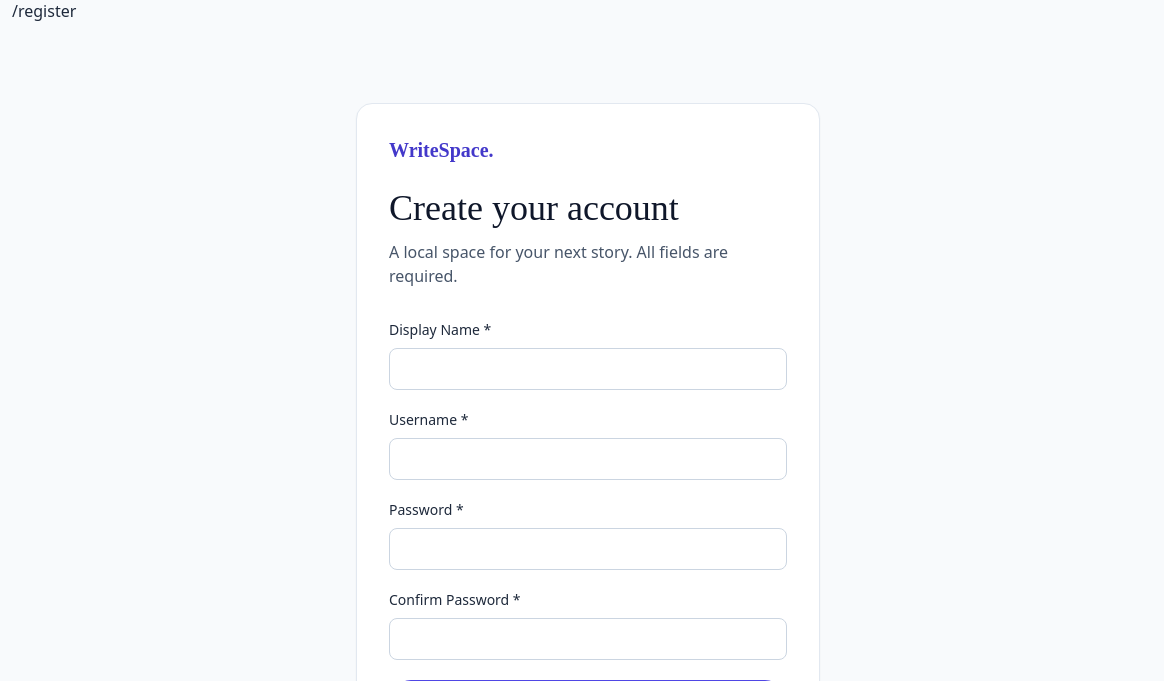
RegisterPage › rejects reserved username admin using the helper error
Type "Demo Writer" into the field labelled "Display Name *" at point(588, 369), box top-left (389, 348), bottom-right (787, 390)
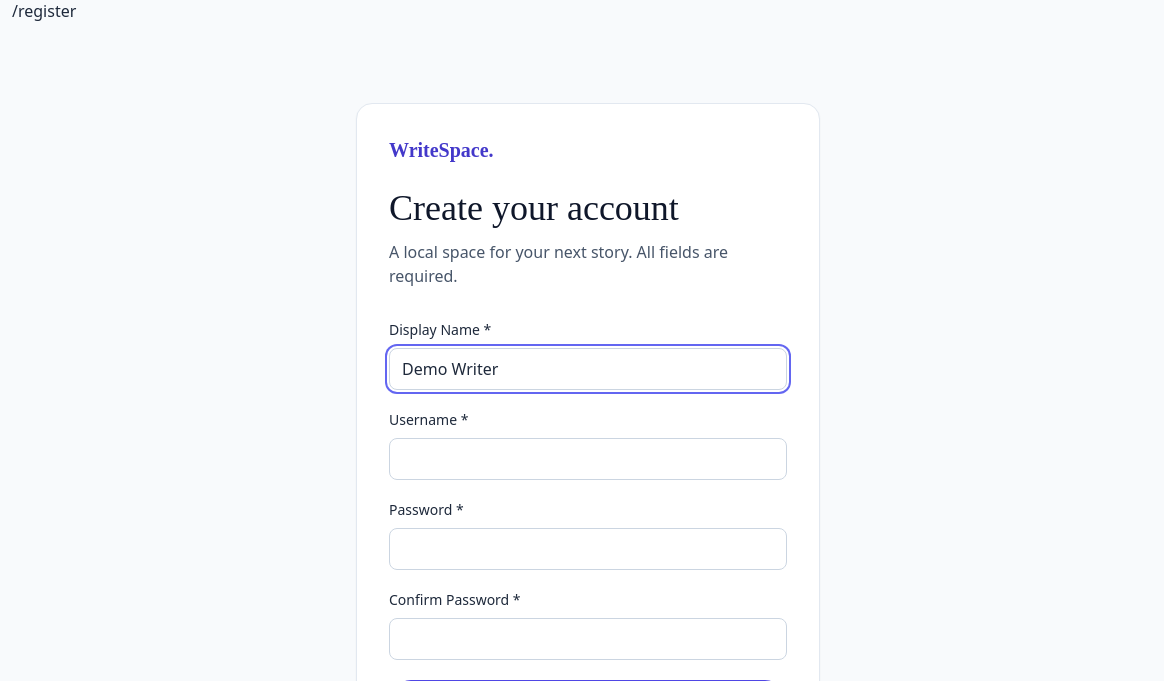
Type "admin" into the field labelled "Username *" at point(588, 459), box top-left (389, 438), bottom-right (787, 480)
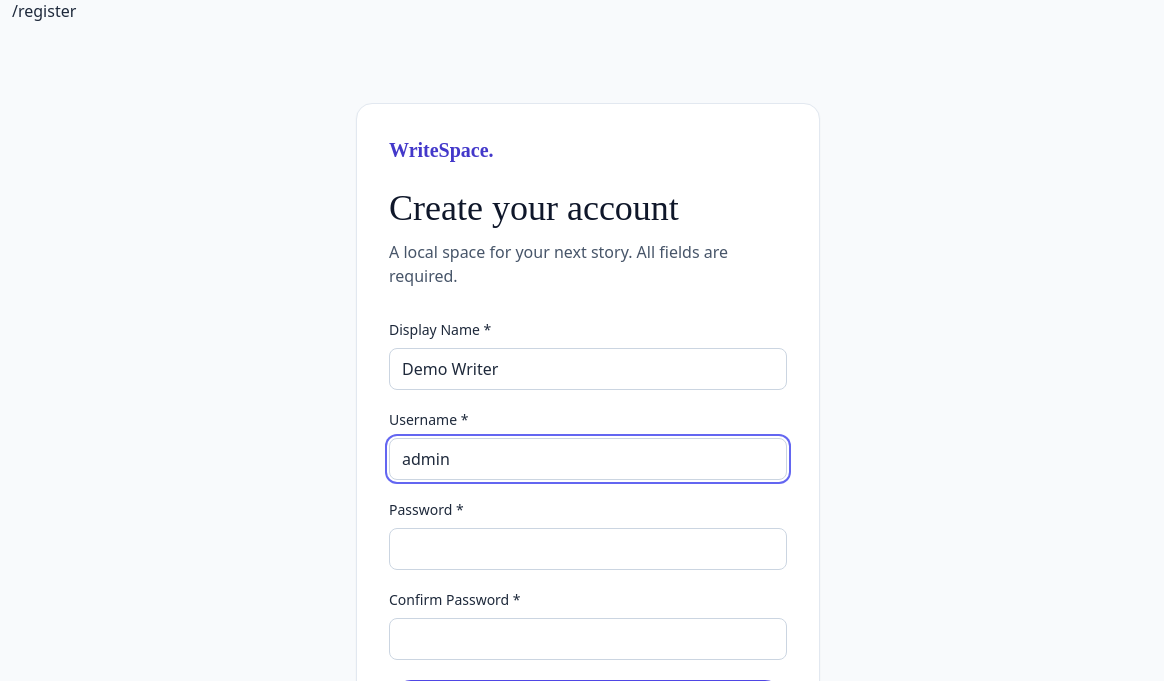
Type "dummy-only" into the password field labelled "Password *" at point(588, 549), box top-left (389, 528), bottom-right (787, 570)
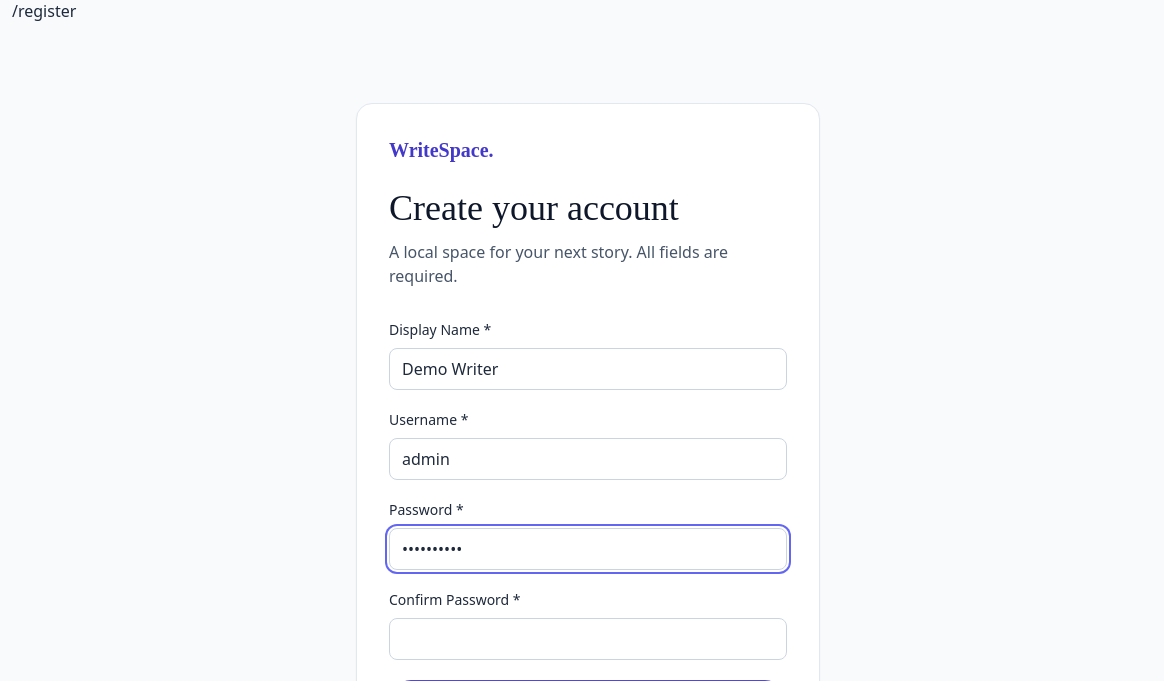
Type "dummy-only" into the password field labelled "Confirm Password *" at point(588, 639), box top-left (389, 618), bottom-right (787, 660)
(page scrolled)
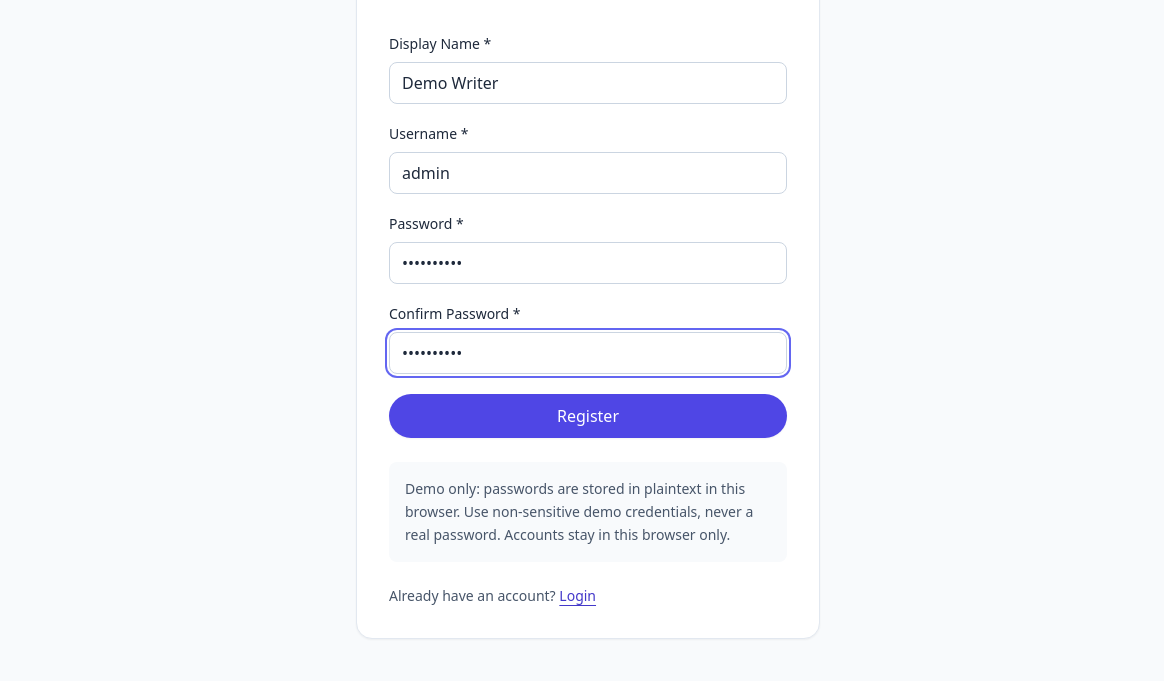
Click the button "Register" at point(588, 416), box top-left (389, 394), bottom-right (787, 438)
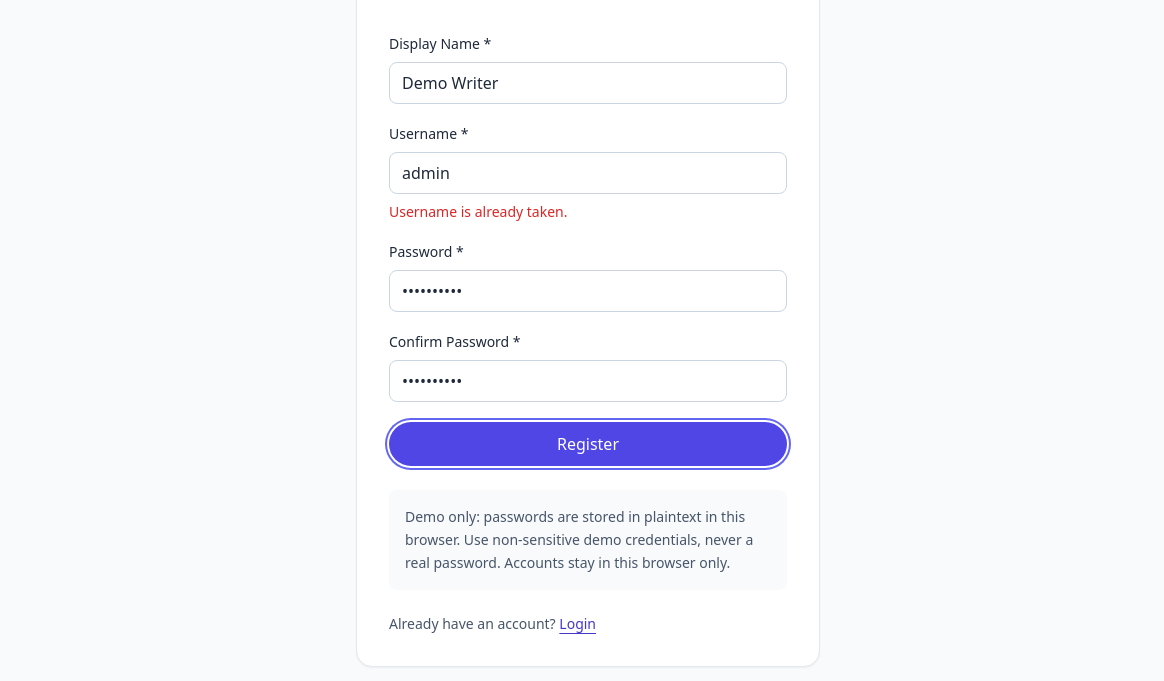
Result: the message reads "Username is already taken." at top-left (389, 202), bottom-right (568, 221)
